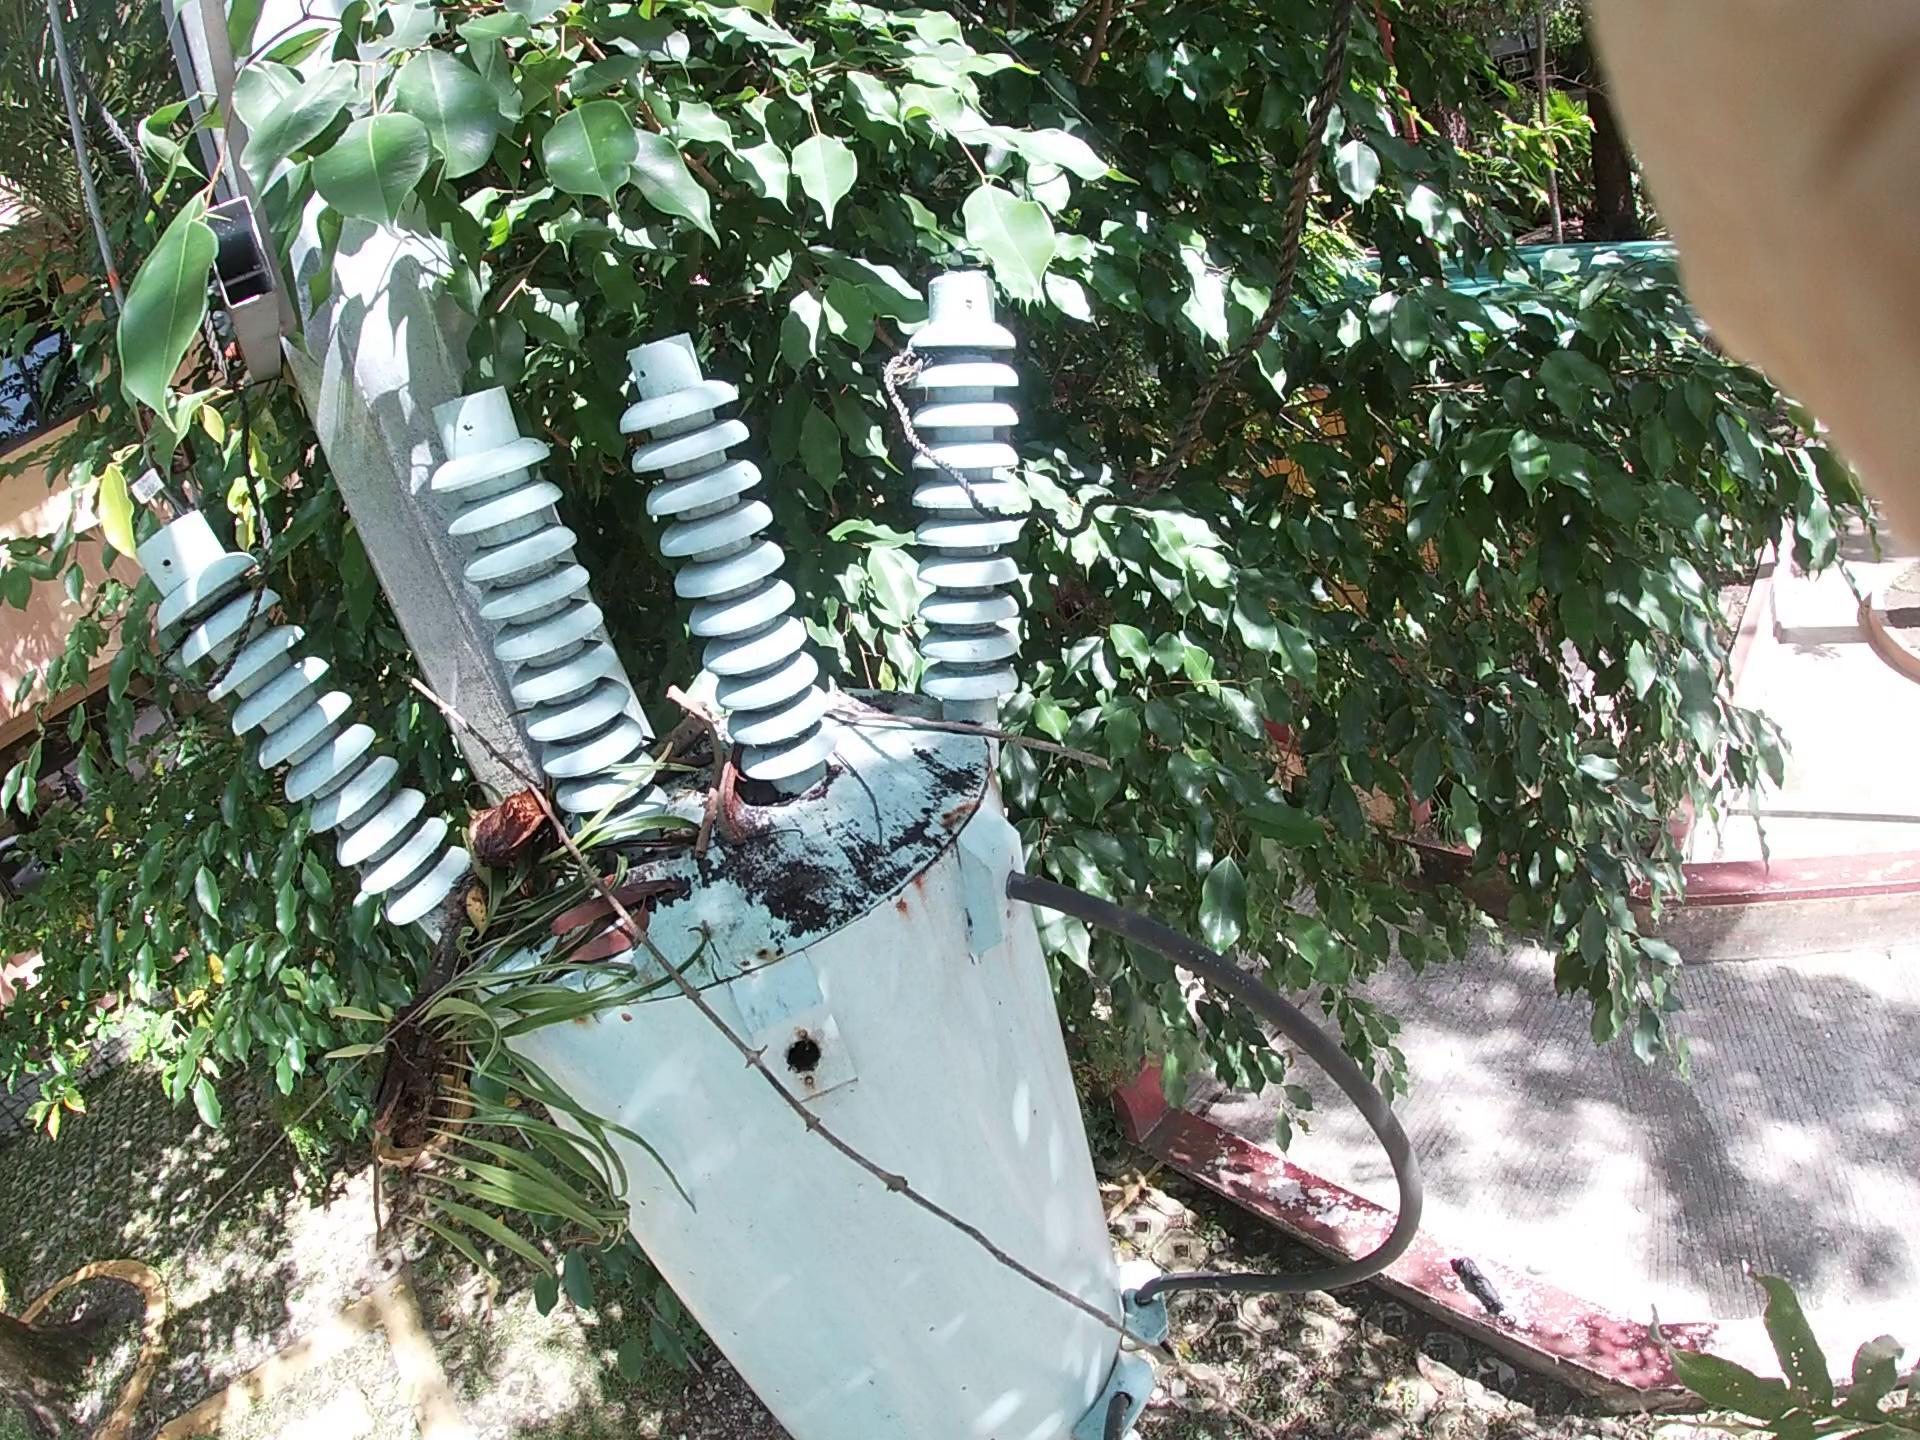branch with leaves: (308, 812, 594, 1231)
leaf: (553, 886, 664, 970)
mahogany fruit: (584, 675, 791, 897), (425, 755, 603, 900)
tree branch: (392, 681, 1002, 1324), (671, 672, 1311, 862), (670, 681, 768, 846)
